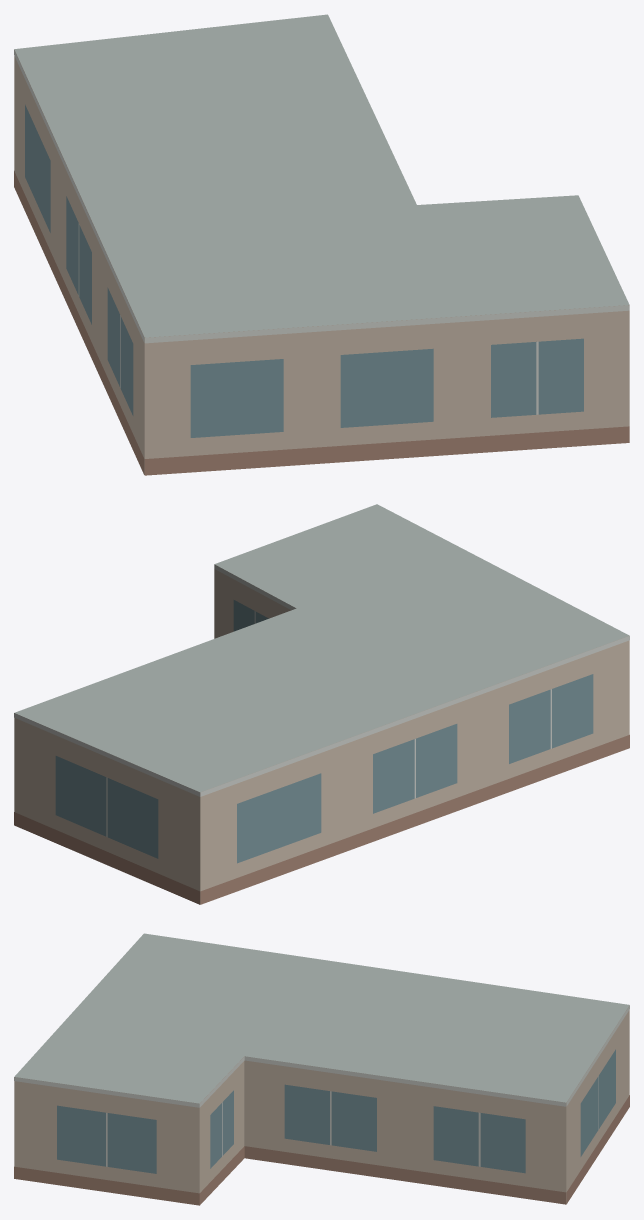
Rendered from survey-upis-32742161.glb.
3 renders of one model, top to bottom at view 1: azimuth 30°, elevation 25°; view 2: azimuth 150°, elevation 25°; view 3: azimuth 270°, elevation 25°, orthographic. The views are drawn at different scales.
Parts seen in each view (by area): view 1: survey-upis-32742161.tmp; view 2: survey-upis-32742161.tmp; view 3: survey-upis-32742161.tmp.
Boxes of the visible parts, <box> form: survey-upis-32742161.tmp: <box>14,14,629,475</box>; survey-upis-32742161.tmp: <box>14,504,629,904</box>; survey-upis-32742161.tmp: <box>14,933,629,1205</box>.
Bounding box in the file's own units: 10.93 × 3.05 × 16.71.
